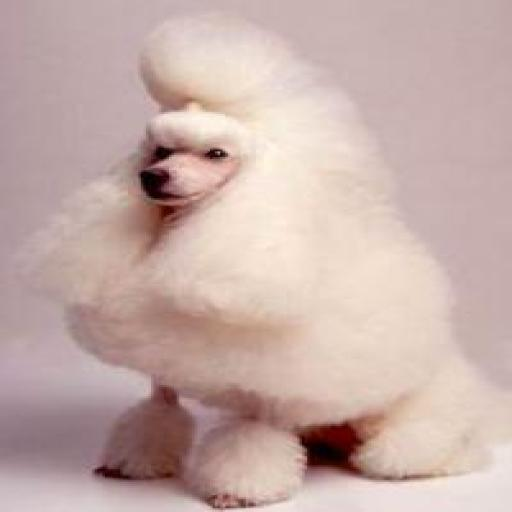dog_face: (43, 34, 356, 278)
